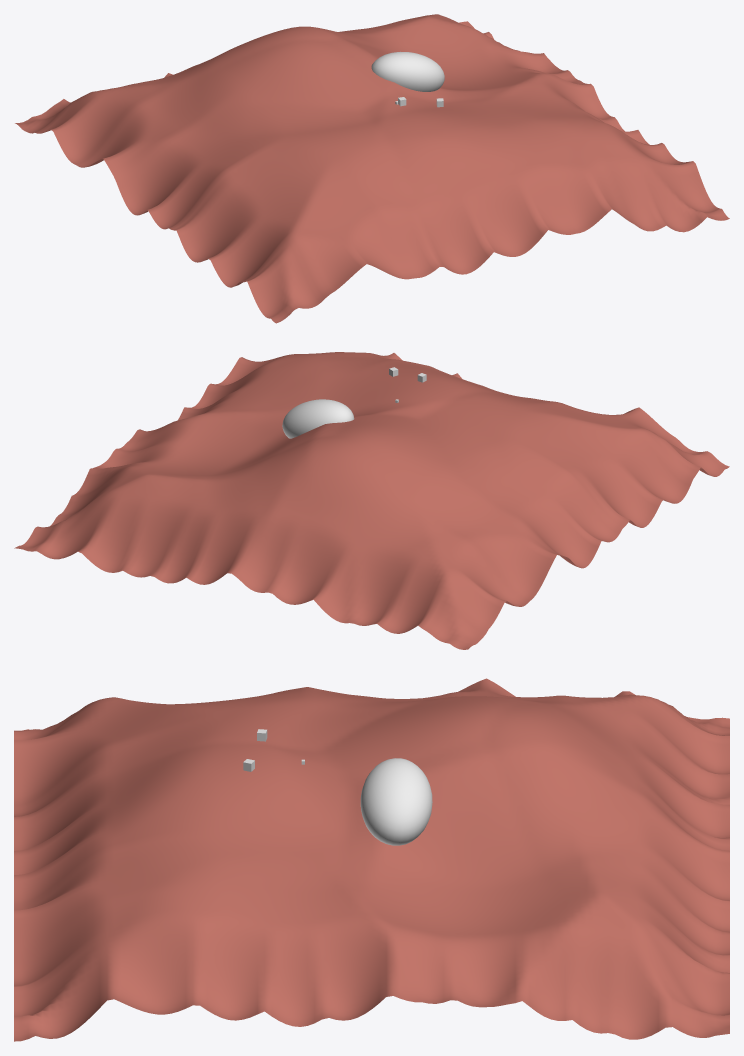
The model's file is island1.glb.
The picture shows the model from 3 angles, top to bottom: view 1: azimuth 30°, elevation 25°; view 2: azimuth 150°, elevation 25°; view 3: azimuth 270°, elevation 25°; orthographic projection. The views are drawn at different scales.
Parts seen in each view (by area): view 1: Island_static_, Sphere_static_; view 2: Island_static_, Sphere_static_; view 3: Island_static_, Sphere_static_.
Boxes of the visible parts, bbox=[...] form: Island_static_: bbox=[15, 14, 729, 323]; Sphere_static_: bbox=[371, 51, 444, 91]; Island_static_: bbox=[14, 352, 729, 649]; Sphere_static_: bbox=[282, 399, 354, 438]; Island_static_: bbox=[14, 678, 729, 1041]; Sphere_static_: bbox=[360, 758, 432, 845].
Size of the model in its own units: 80 by 19.24 by 80.
